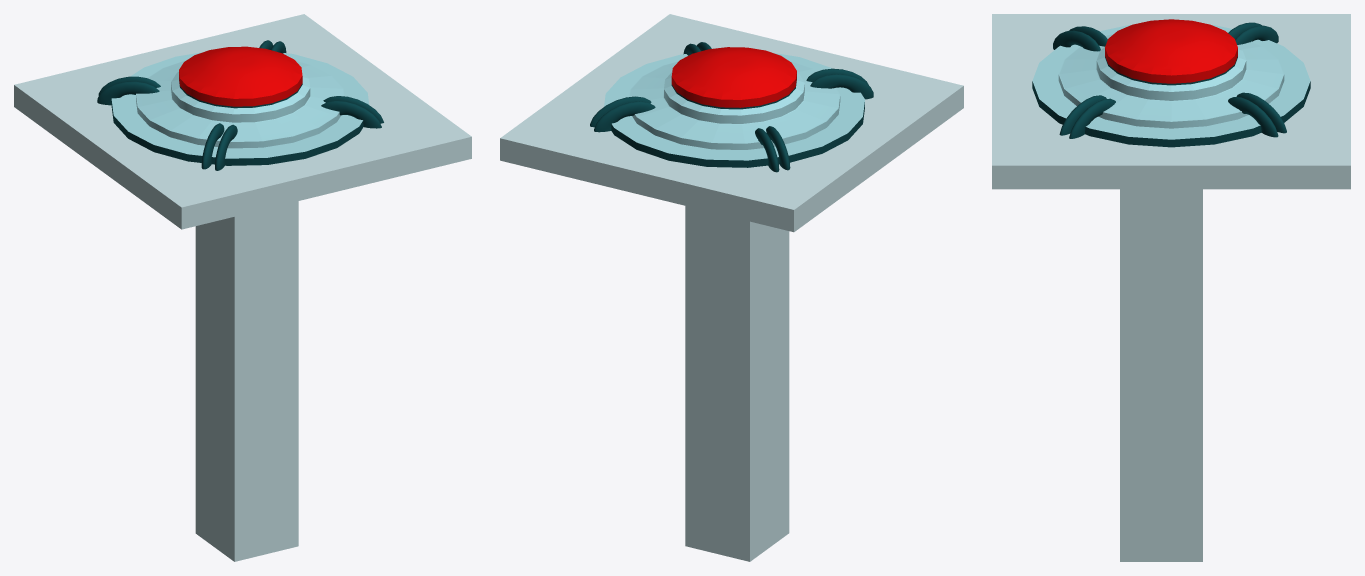
Rendered from Objeto1.fbx.
The picture shows the model from 3 angles, left to right: view 1: azimuth 30°, elevation 25°; view 2: azimuth 150°, elevation 25°; view 3: azimuth 270°, elevation 25°; orthographic projection. The views are drawn at different scales.
Visible parts, largest first — view 1: pTorus9; view 2: pTorus9; view 3: pTorus9.
Part boxes in pixels (x1,y1,x2,y2): pTorus9: (14,14,471,561); pTorus9: (500,14,963,561); pTorus9: (992,14,1350,561).
Bounding box in the file's own units: 6.02 × 9.46 × 6.02.
